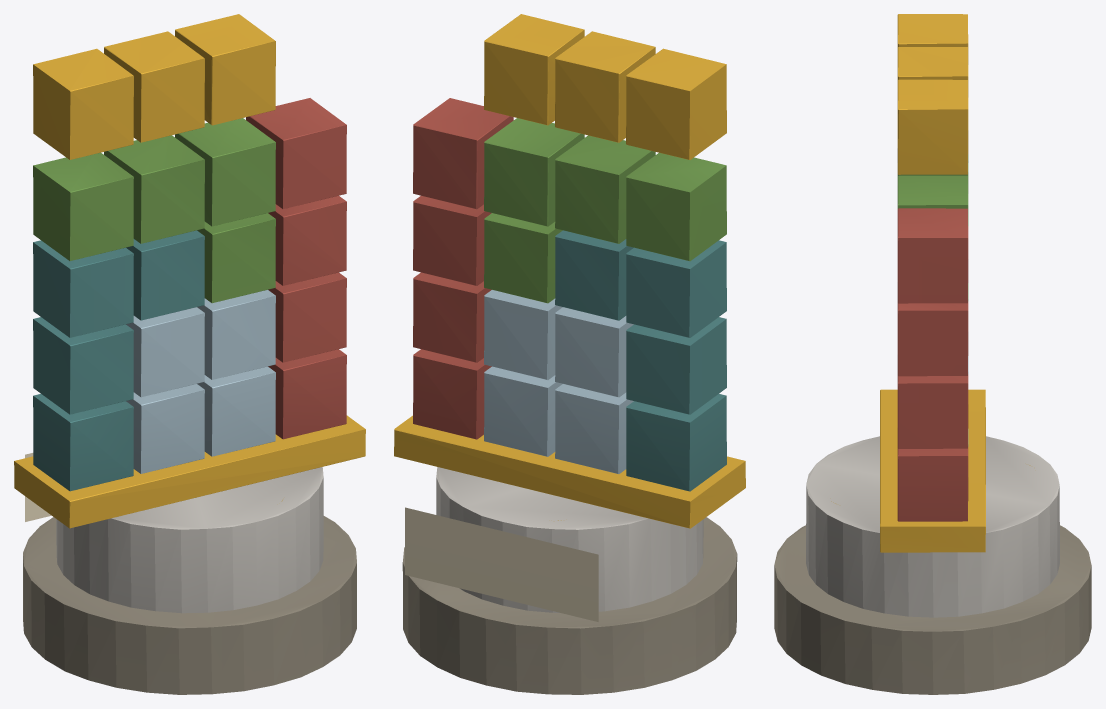
File: trophy_blocks_low.glb
3 views of the same model, side by side, from view 1: azimuth 30°, elevation 25°; view 2: azimuth 150°, elevation 25°; view 3: azimuth 270°, elevation 25° (orthographic). The views are drawn at different scales.
Visible parts, largest first — view 1: symbol, common_pedestal; view 2: symbol, common_pedestal, trophy_plate; view 3: common_pedestal, symbol.
Boxes of the visible parts, x1,y1,x2,y2 form: symbol: [14, 14, 365, 528]; common_pedestal: [23, 467, 356, 694]; symbol: [394, 14, 745, 528]; common_pedestal: [402, 467, 737, 694]; trophy_plate: [405, 507, 598, 621]; common_pedestal: [774, 436, 1091, 694]; symbol: [880, 14, 985, 552].
Size of the model in its own units: 0.9181 by 1.72 by 0.8987.
